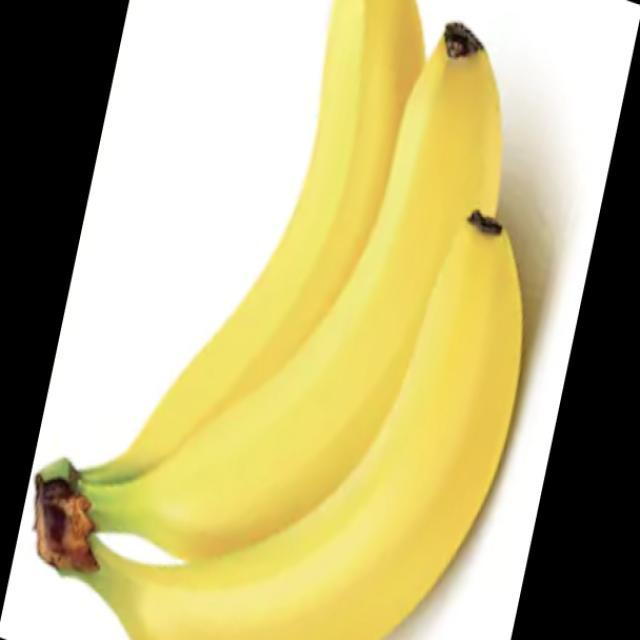Banana: (31, 0, 524, 639)
